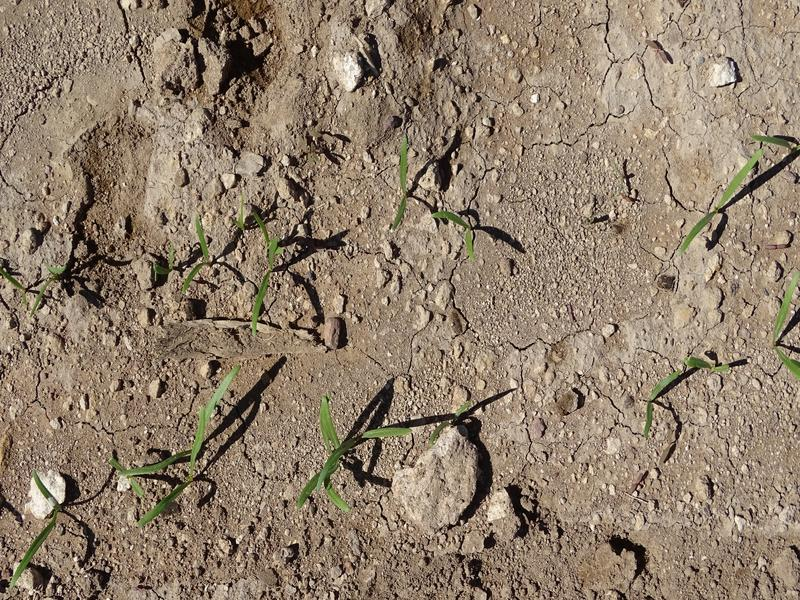Espinaca: (109, 362, 248, 522), (294, 396, 400, 515), (669, 147, 768, 261), (237, 206, 288, 342), (642, 356, 724, 430), (179, 208, 218, 292), (11, 522, 64, 582), (428, 205, 485, 259), (773, 265, 800, 377), (392, 137, 411, 232)
